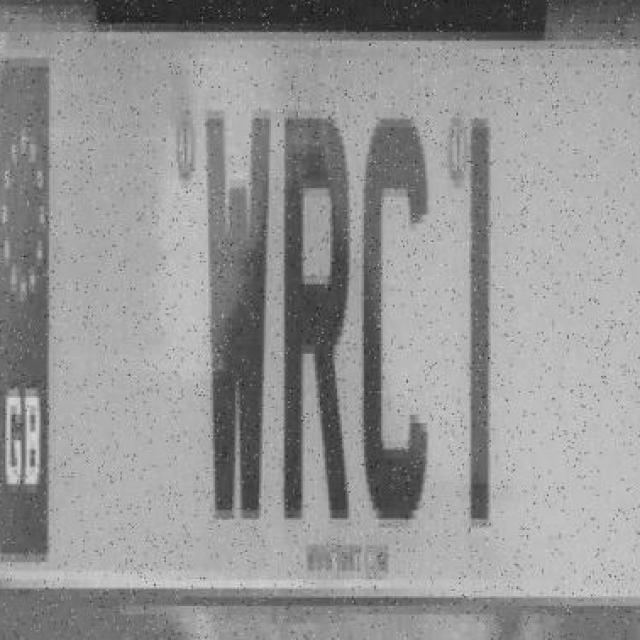licenseplate: (0, 2, 640, 638)
